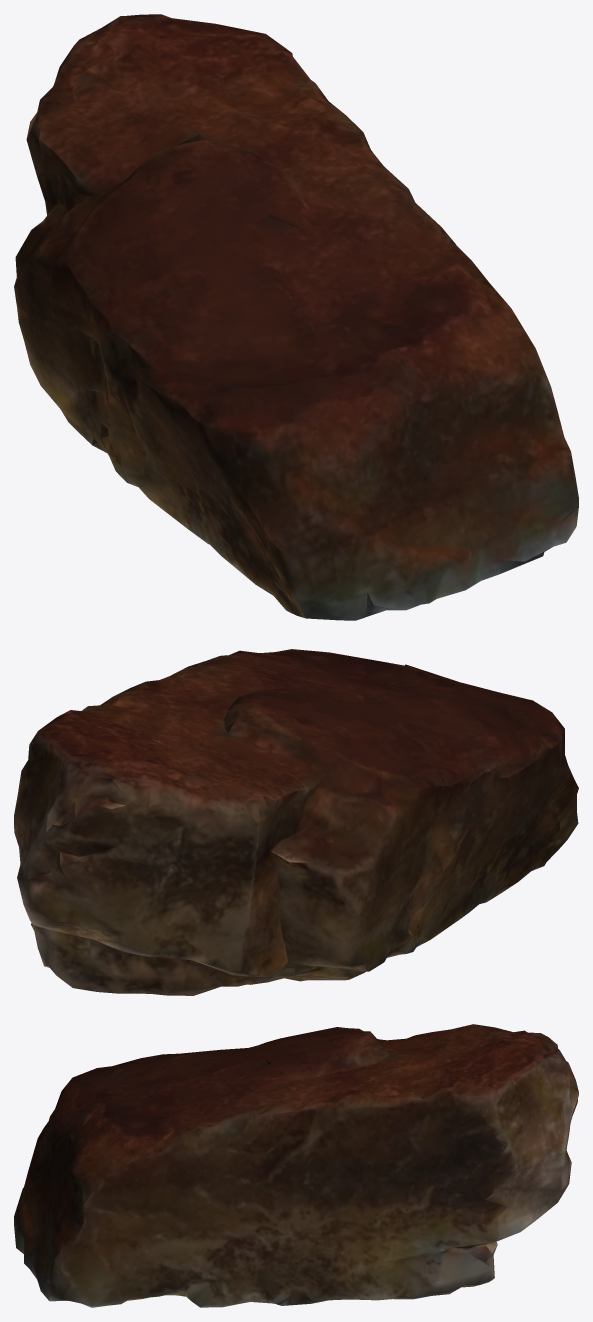
The model's file is rock_chunk_a.glb.
The picture shows the model from 3 angles, top to bottom: view 1: azimuth 30°, elevation 25°; view 2: azimuth 150°, elevation 25°; view 3: azimuth 270°, elevation 25°; orthographic projection. The views are drawn at different scales.
Parts seen in each view (by area): view 1: rock_chunk_a; view 2: rock_chunk_a; view 3: rock_chunk_a.
Part boxes in pixels (bbox=[...]): rock_chunk_a: bbox=[14, 14, 578, 620]; rock_chunk_a: bbox=[14, 649, 578, 995]; rock_chunk_a: bbox=[14, 1024, 578, 1307].
Size of the model in its own units: 0.5773 by 0.4934 by 1.1.
1 material, 1 textured.
